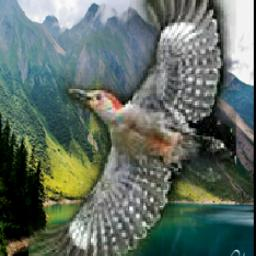Woodpecker: (28, 0, 236, 256)
